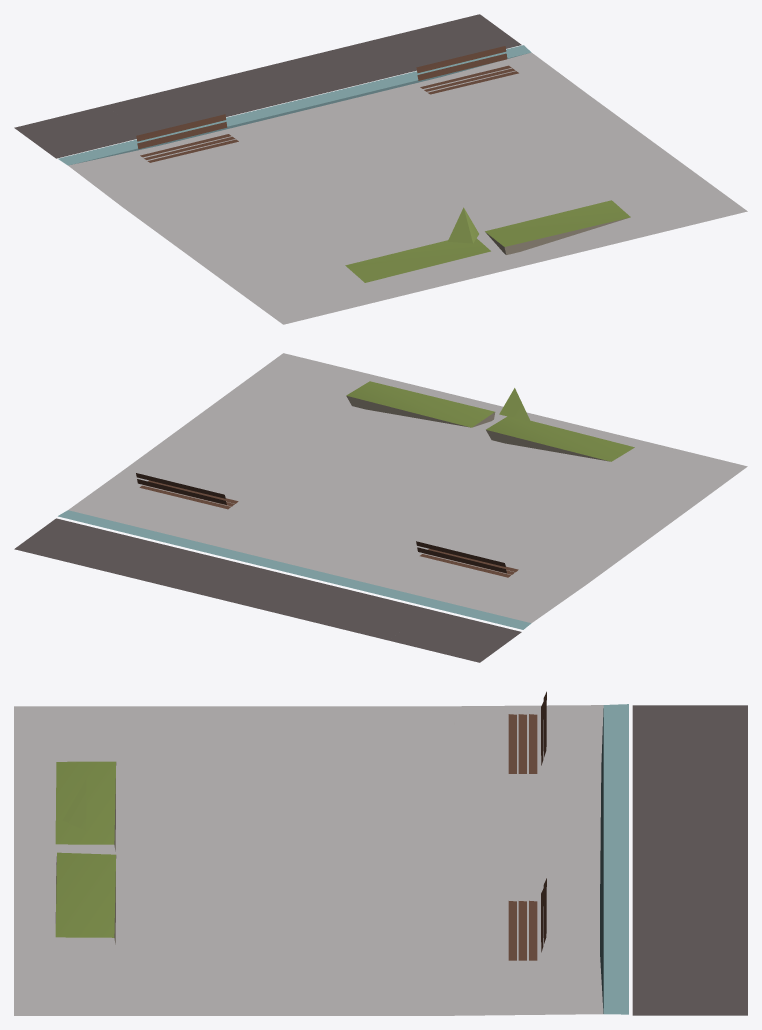
File: QmeQesCV89NqjwiCTFL1un4pY7F7Hvee5vaJBbVd5JfuNt_lod2.fbx
3 renders of one model, top to bottom at view 1: azimuth 30°, elevation 25°; view 2: azimuth 150°, elevation 25°; view 3: azimuth 270°, elevation 25°, orthographic. The views are drawn at different scales.
Visible parts, largest first — view 1: Entity_512; view 2: Entity_512; view 3: Entity_512.
Boxes of the visible parts, x1=… form: Entity_512: x1=14, y1=14, x2=747, y2=324; Entity_512: x1=14, y1=353, x2=747, y2=662; Entity_512: x1=14, y1=691, x2=747, y2=1015.
Bounding box in the file's own units: 15930 × 1591 × 15907.
Materials: 1 (1 with a texture image).
